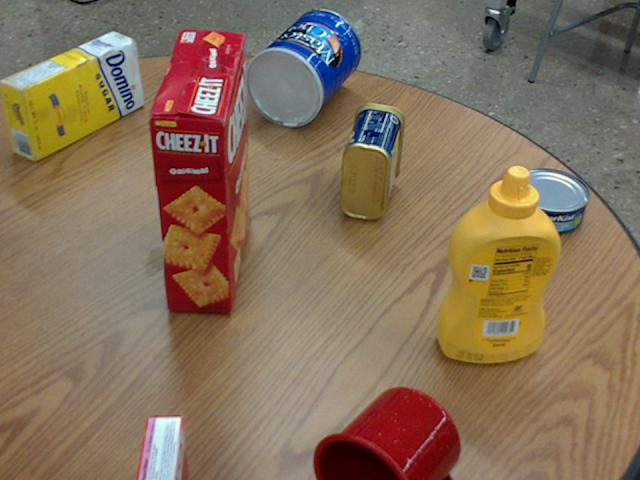cracker_box: (150, 29, 249, 312)
gelatin_box: (131, 415, 185, 479)
master_chef_can: (244, 8, 359, 125)
mug: (310, 388, 459, 479)
mustard_bottle: (435, 165, 559, 361)
potted_meat_can: (340, 102, 403, 218)
sugar_box: (0, 30, 142, 159)
tuna_fish_can: (507, 167, 587, 234)
